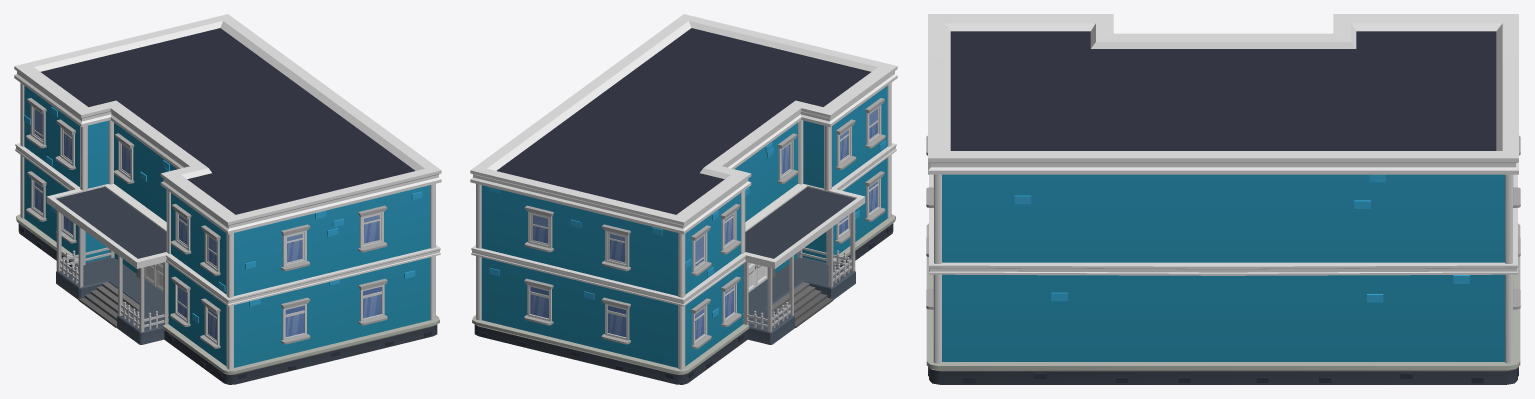
File: Building_5_1_F.glb
3 views of the same model, side by side, from view 1: azimuth 30°, elevation 25°; view 2: azimuth 150°, elevation 25°; view 3: azimuth 270°, elevation 25° (orthographic). The views are drawn at different scales.
Parts seen in each view (by area): view 1: Building_5_1_F; view 2: Building_5_1_F; view 3: Building_5_1_F.
Part boxes in pixels (x1,y1,x2,y2): Building_5_1_F: [14, 14, 441, 384]; Building_5_1_F: [470, 14, 897, 384]; Building_5_1_F: [926, 14, 1520, 384].
Size of the model in its own units: 12.51 by 8.04 by 19.08.
3 materials, 3 textured.
